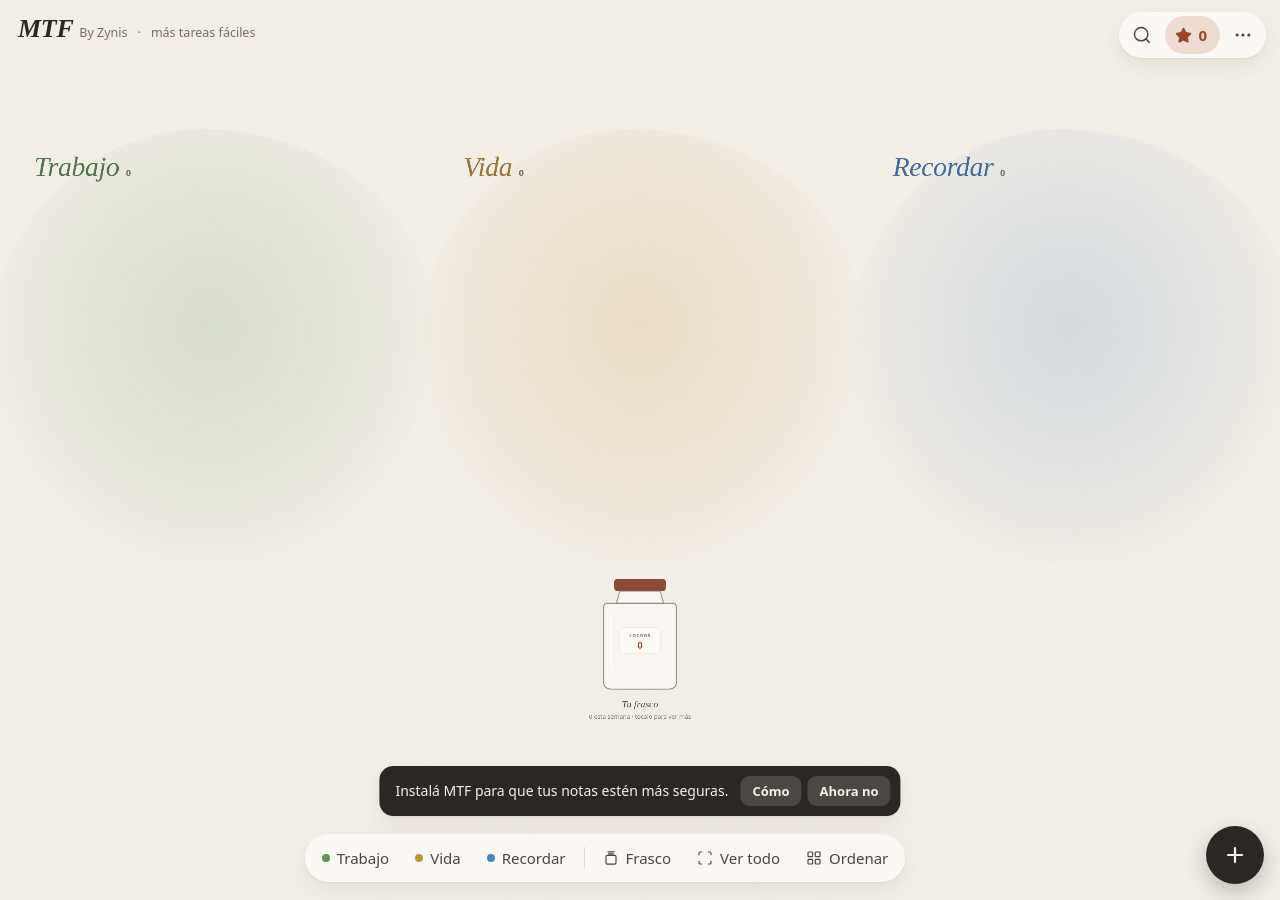
Test: App › the install nudge's "Cómo" opens Settings with the install section
Step 1. Click the button "Cómo" → (771, 791), box [740, 776, 802, 806]
(page scrolled)
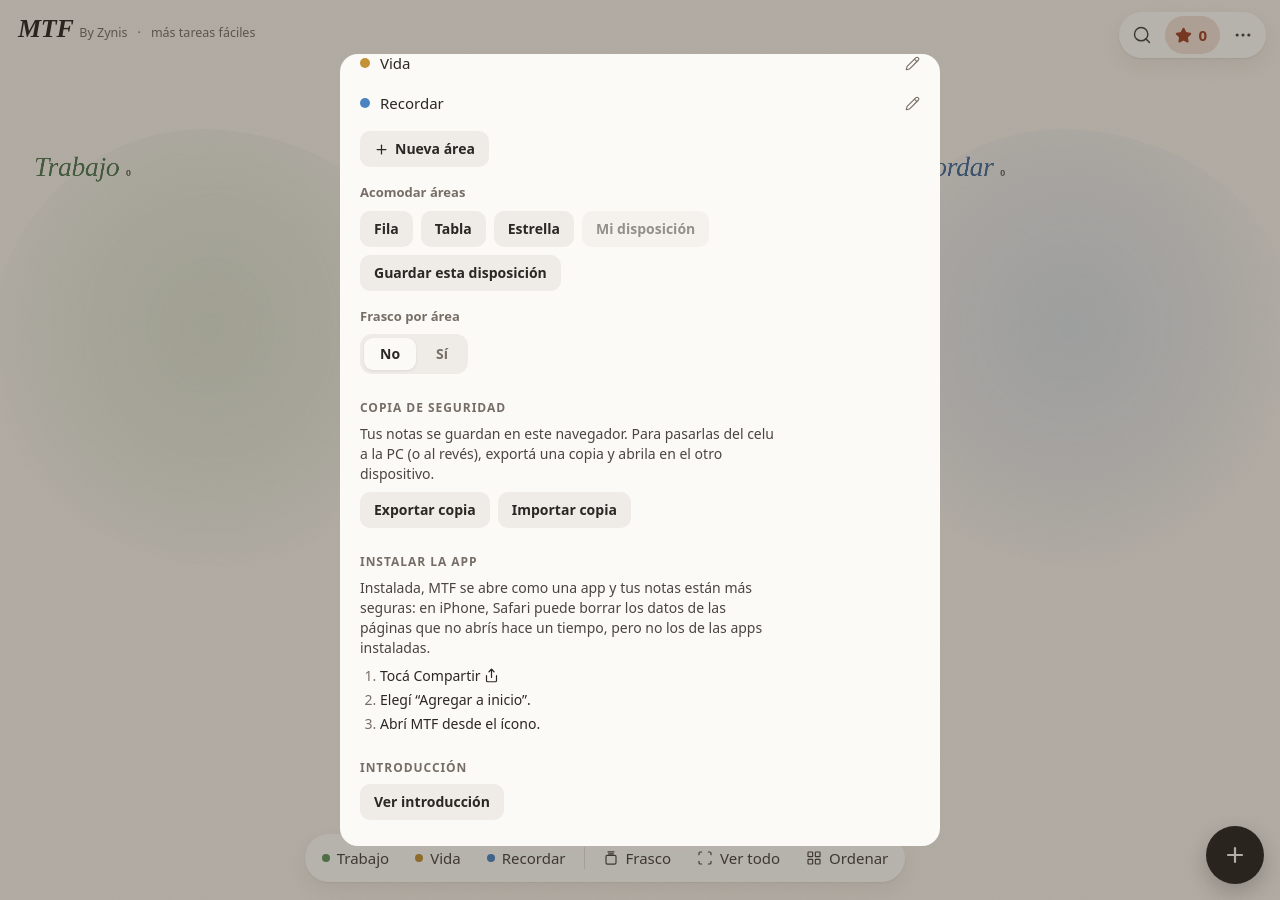
Check: the list item "Elegí “Agregar a inicio”." is shown, box [380, 690, 531, 709]
